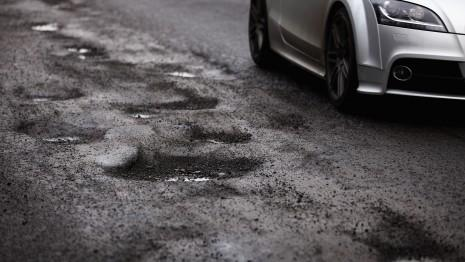Pothole: (98, 149, 263, 186), (16, 116, 108, 148), (367, 231, 463, 261), (168, 56, 245, 82), (184, 128, 255, 148), (23, 84, 87, 103), (161, 96, 222, 111), (121, 103, 165, 122), (63, 44, 99, 60), (23, 20, 62, 33)
